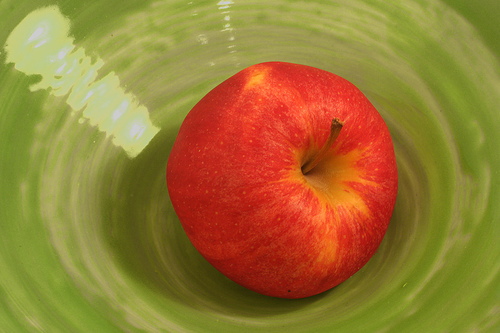apple: (165, 59, 401, 301)
